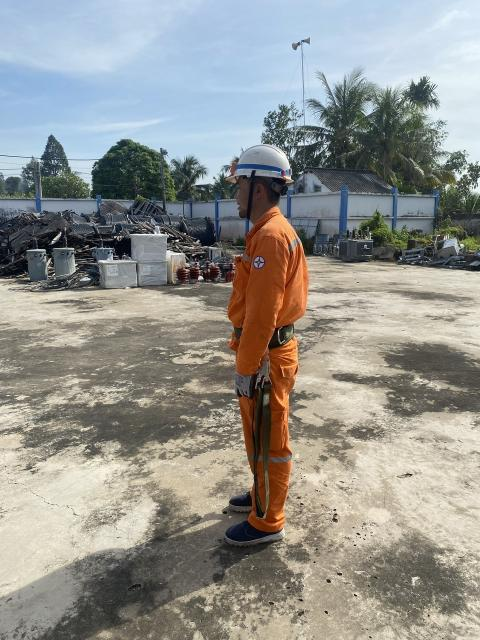gloves: (226, 362, 257, 408)
harness: (218, 316, 320, 361)
helmet: (212, 132, 297, 195)
shoes: (217, 470, 287, 516), (221, 513, 293, 552)
